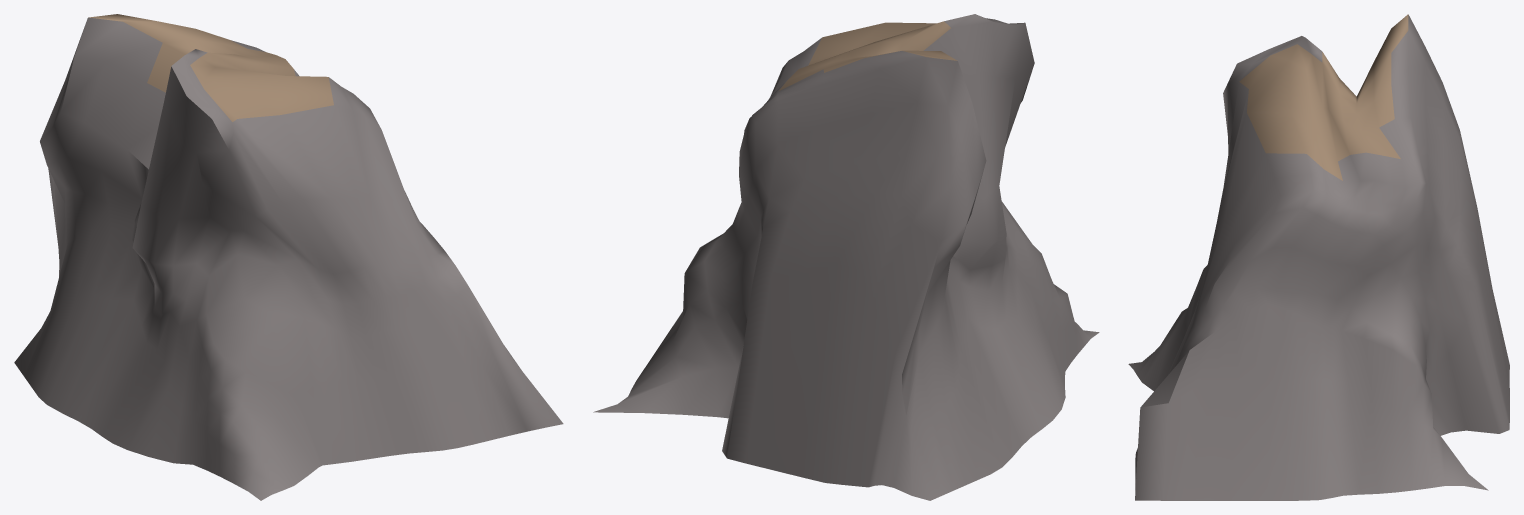
The model's file is Berg_9.fbx.
The picture shows the model from 3 angles, left to right: view 1: azimuth 30°, elevation 25°; view 2: azimuth 150°, elevation 25°; view 3: azimuth 270°, elevation 25°; orthographic projection. The views are drawn at different scales.
Visible parts, largest first — view 1: Berg_9; view 2: Berg_9; view 3: Berg_9.
Part boxes in pixels (x1=…): Berg_9: x1=14, y1=14, x2=563, y2=500; Berg_9: x1=593, y1=14, x2=1099, y2=500; Berg_9: x1=1128, y1=14, x2=1509, y2=500.
Size of the model in its own units: 1962 by 1928 by 1942.
